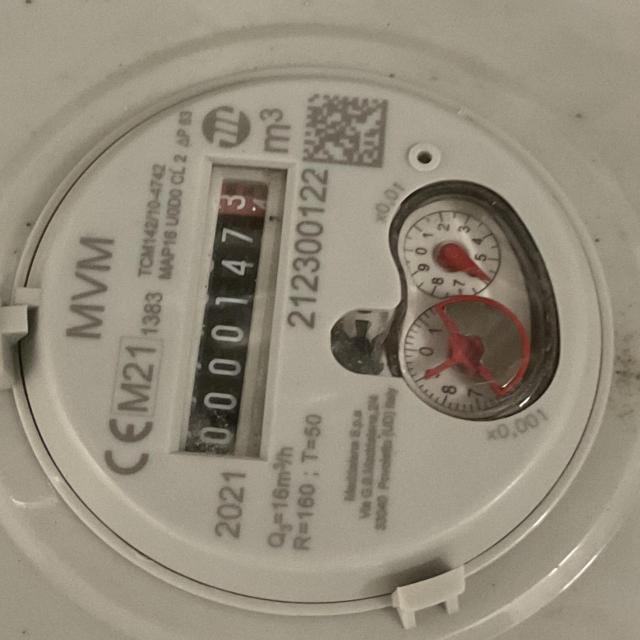gaz_meter: (23, 72, 601, 608)
indication: (179, 162, 292, 459)
